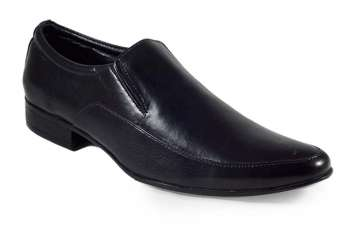Footwear: (21, 18, 338, 201)
